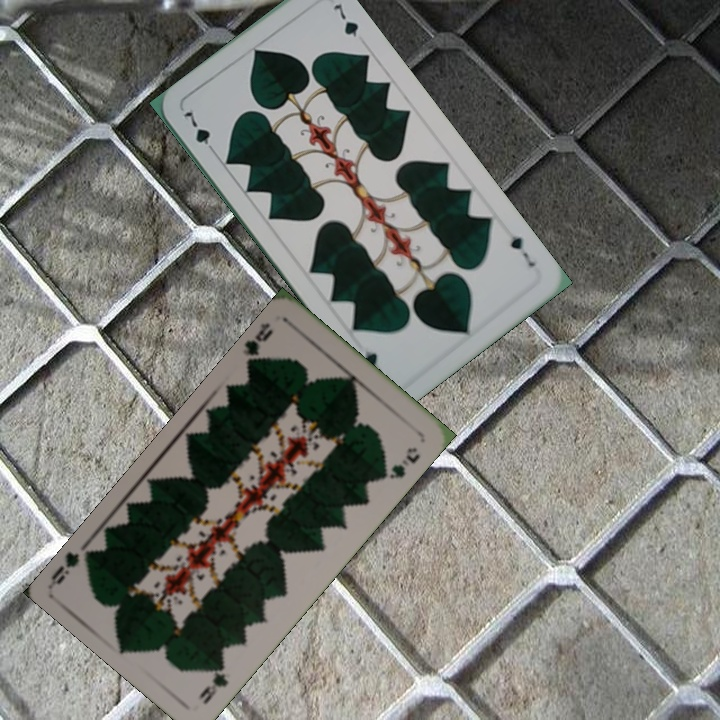G7: (179, 107, 220, 158), (506, 231, 538, 270)
G9: (238, 318, 276, 368), (194, 657, 231, 708)
